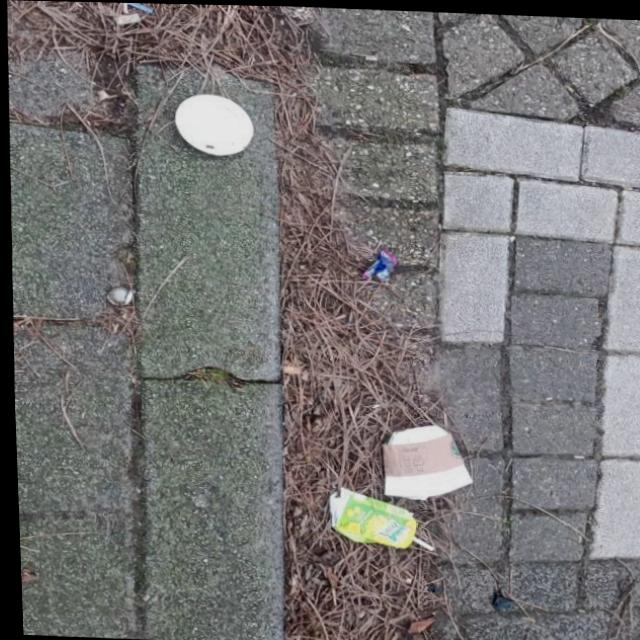Cup: (375, 419, 472, 500)
Plastic: (357, 245, 398, 282)
